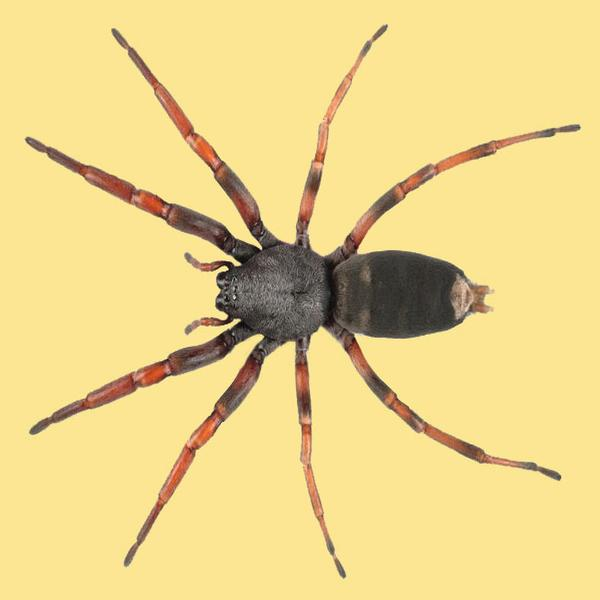White-Tailed_Spider: (29, 27, 581, 579)
